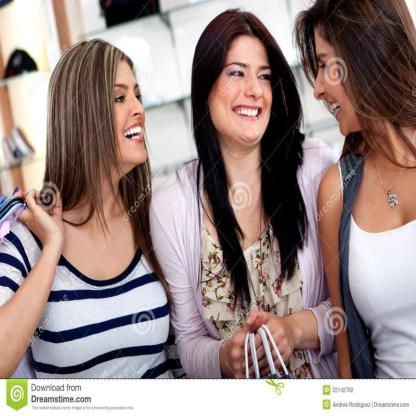face: (83, 52, 148, 167), (212, 43, 273, 143), (311, 36, 368, 139)
